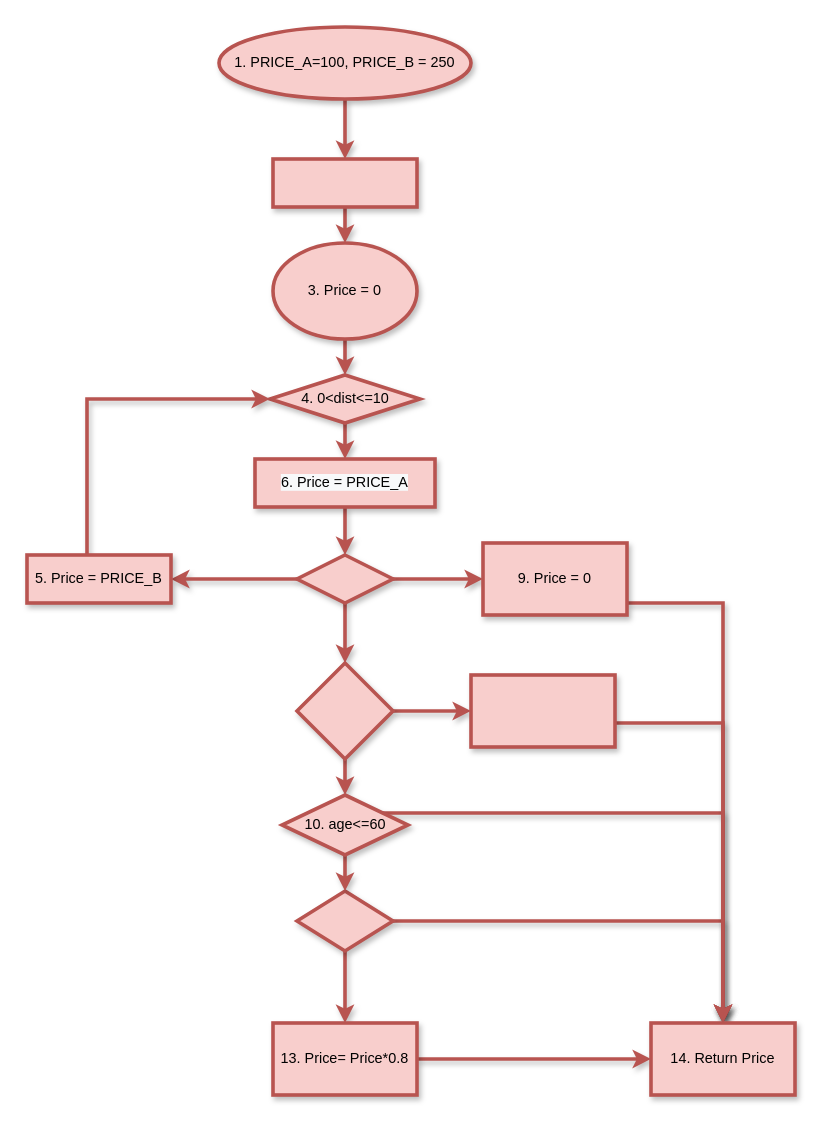
Some shapes in this 824 by 1126 pixel diagram are drawn without their labels. The centre of each missing label's shape, as x and y in pixels:
11. Price = Price/2: the point at 543,712
12. age<=100: the point at 345,922
2. charge(age, dist): the point at 345,184
7. age<=3: the point at 345,580
8. age<=15: the point at 345,712
